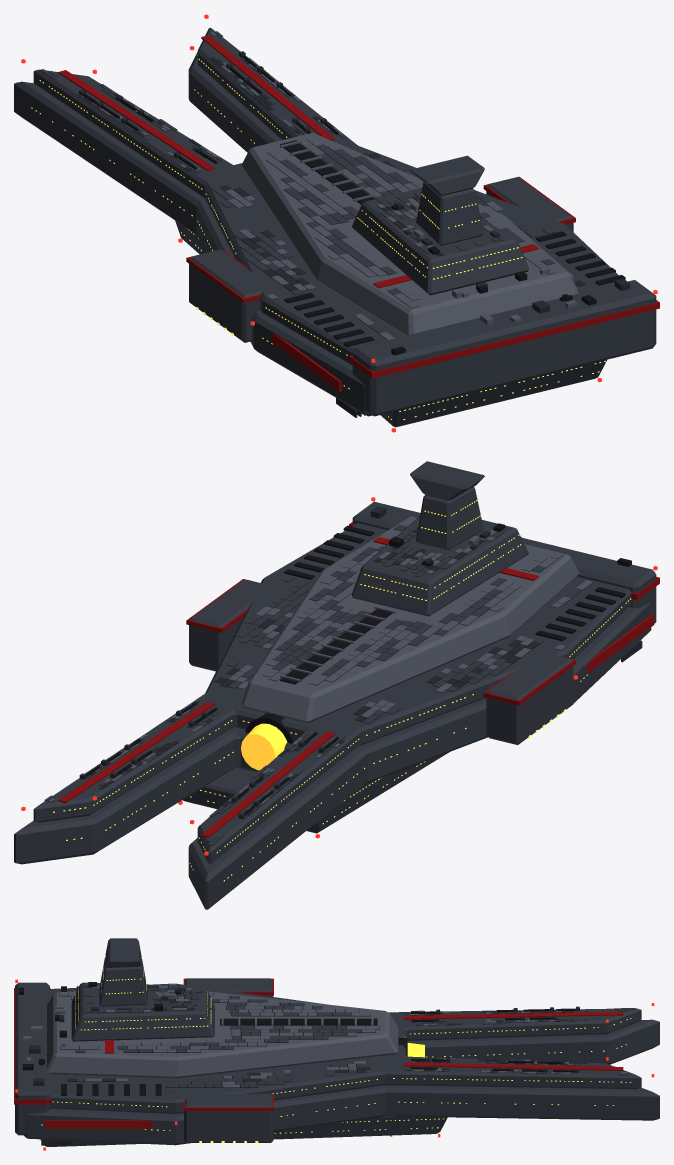
File: destroyer_hull.glb
The picture shows the model from 3 angles, top to bottom: view 1: azimuth 30°, elevation 25°; view 2: azimuth 150°, elevation 25°; view 3: azimuth 270°, elevation 25°; orthographic projection. The views are drawn at different scales.
Parts seen in each view (by area): view 1: HullUpper, EngineBlock, HullLower, Deck, DetailHullLight, Super, DetailHull, HousingL, Keel, DetailHullDark, Tower, DetailPanelLine (+9 smaller); view 2: HullUpper, HullLower, Deck, DetailHull, DetailHullLight, Super, HousingL, EngineBlock, HousingR, Keel, DetailHullDark, DetailPanelLine (+9 smaller); view 3: HullLower, HullUpper, Deck, Super, DetailHull, DetailHullLight, EngineBlock, HousingR, Keel, DetailPanelLine, DetailHullDark, Tower (+10 smaller).
Boxes of the visible parts, x1,y1,x2,y2 form: HullUpper: [33, 28, 618, 365]; EngineBlock: [352, 280, 656, 416]; HullLower: [14, 52, 372, 416]; Deck: [242, 132, 578, 335]; DetailHullLight: [96, 32, 576, 339]; Super: [351, 188, 528, 295]; DetailHull: [40, 31, 579, 333]; HousingL: [189, 249, 272, 342]; Keel: [175, 221, 606, 427]; DetailHullDark: [79, 51, 630, 417]; Tower: [416, 182, 483, 245]; DetailPanelLine: [40, 32, 585, 339]; HullUpper: [33, 523, 631, 864]; HullLower: [14, 602, 651, 909]; Deck: [242, 516, 579, 723]; DetailHull: [45, 523, 581, 845]; DetailHullLight: [48, 522, 592, 809]; Super: [351, 516, 528, 616]; HousingL: [486, 651, 573, 744]; EngineBlock: [352, 501, 656, 623]; HousingR: [189, 579, 272, 671]; Keel: [182, 752, 449, 833]; DetailHullDark: [79, 506, 642, 818]; DetailPanelLine: [44, 520, 593, 845]; HullLower: [24, 1019, 659, 1145]; HullUpper: [50, 983, 641, 1113]; Deck: [47, 991, 398, 1078]; Super: [71, 982, 214, 1041]; DetailHull: [76, 983, 634, 1093]; DetailHullLight: [23, 984, 627, 1087]; EngineBlock: [15, 982, 49, 1135]; HousingR: [184, 1094, 273, 1142]; Keel: [40, 1116, 447, 1146]; DetailPanelLine: [59, 984, 635, 1093]; DetailHullDark: [29, 985, 586, 1145]; Tower: [99, 957, 147, 1006].
Size of the model in its own units: 350 by 218 by 737.
